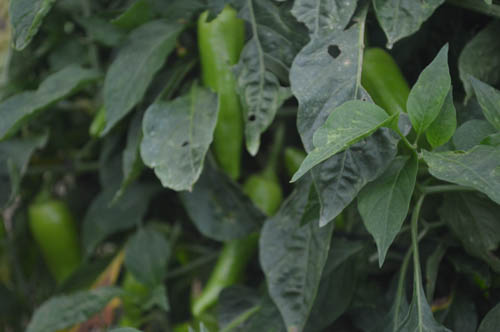ChiliPepper: (196, 177, 278, 311), (196, 10, 246, 175), (25, 207, 84, 275), (361, 49, 414, 119)
